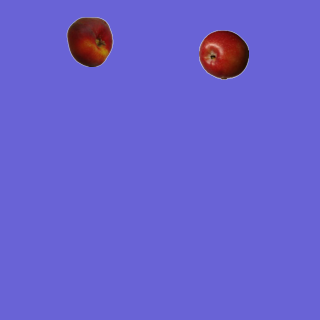Apple Braeburn: (198, 29, 248, 79)
Nectarine Flat: (64, 16, 114, 66)
